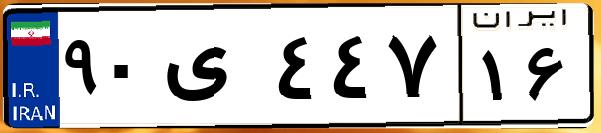0: (110, 28, 158, 98)
1: (475, 38, 525, 113)
4: (270, 28, 330, 110), (330, 28, 385, 110)
6: (525, 38, 570, 115)
7: (385, 28, 445, 110)
9: (57, 26, 110, 100)
ی: (158, 20, 270, 120)
